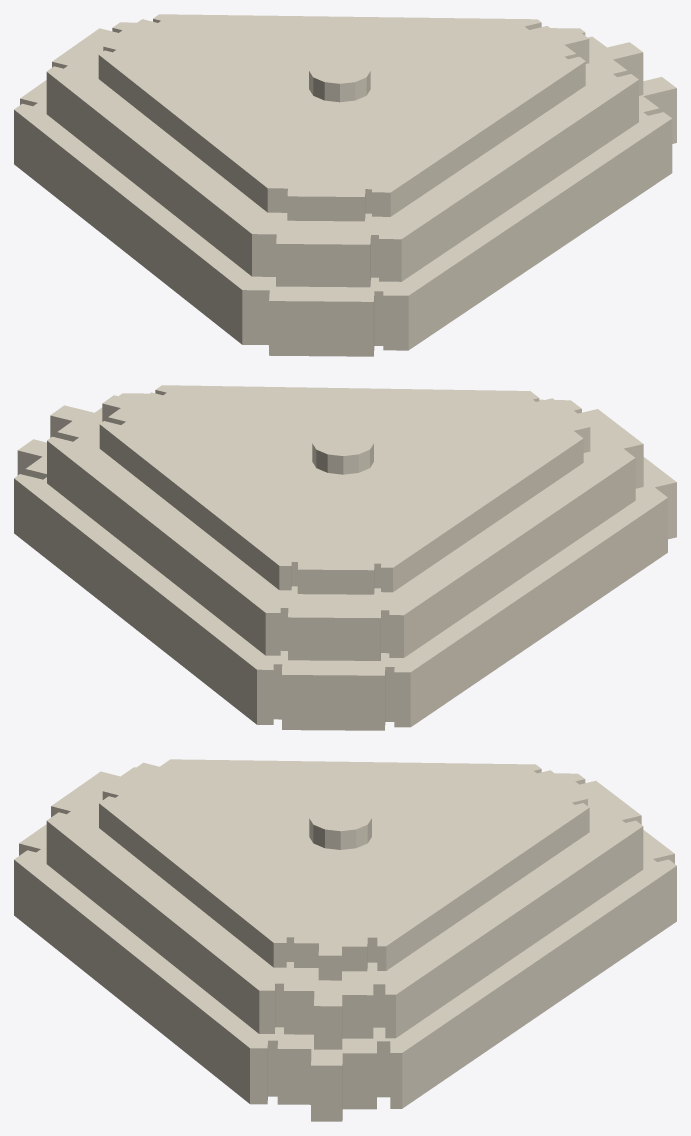
Rendered from new-parliament-house_lod0.glb.
3 views of the same model, one above another, from view 1: azimuth 30°, elevation 25°; view 2: azimuth 150°, elevation 25°; view 3: azimuth 270°, elevation 25° (orthographic).
Visible parts, largest first — view 1: new-parliament-house; view 2: new-parliament-house; view 3: new-parliament-house.
Boxes of the visible parts, x1,y1,x2,y2 form: new-parliament-house: (14,14,676,356); new-parliament-house: (14,385,676,730); new-parliament-house: (14,759,676,1121).
Bounding box in the file's own units: 181 × 45.6 × 192.
